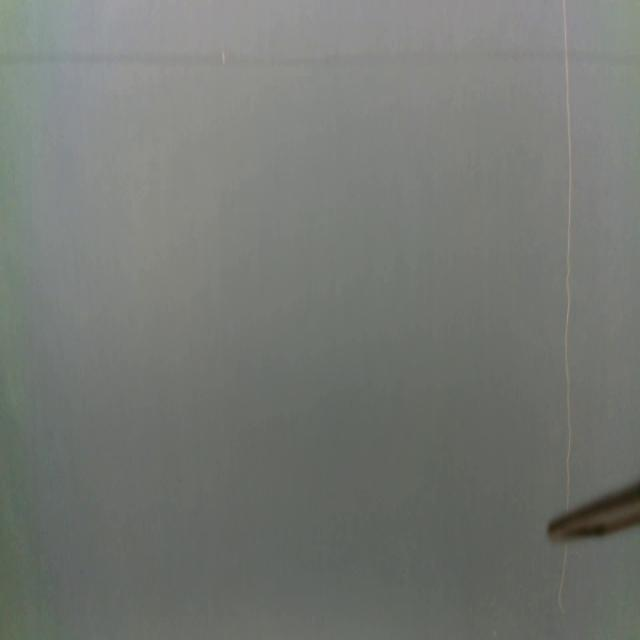color bleeding: (0, 40, 640, 73)
